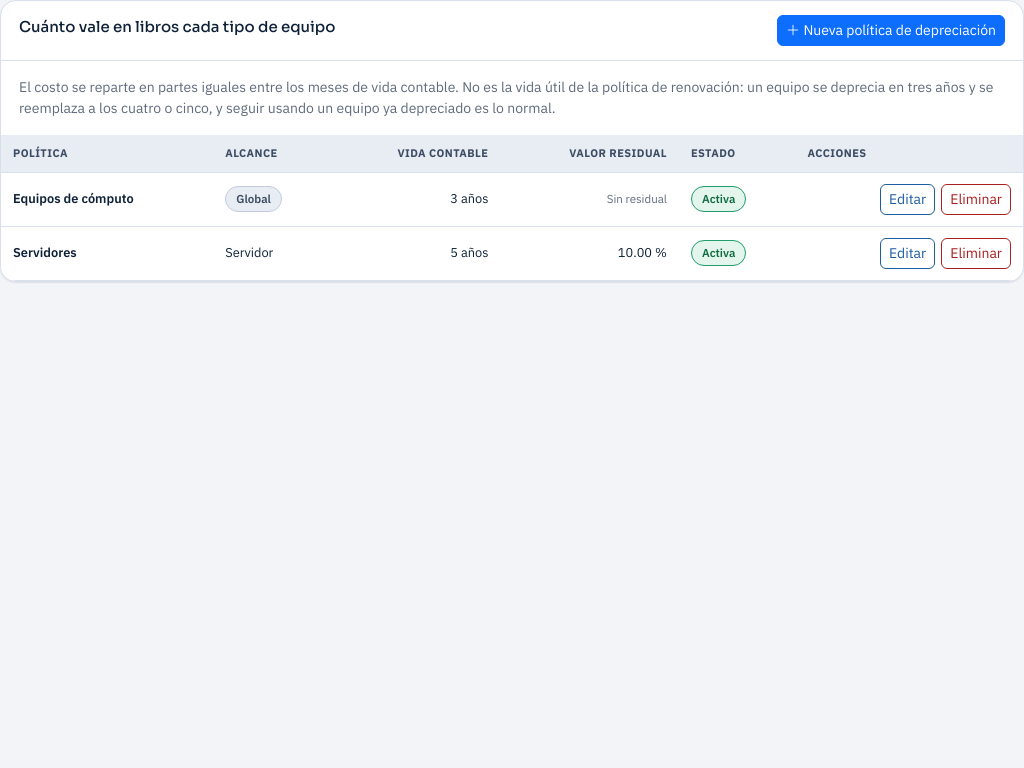
Test: Al definir una política de depreciación › propone 36 meses, que es lo del equipo de cómputo
Click the button "Nueva política de depreciación" at (891, 30), box [777,15,1005,46]
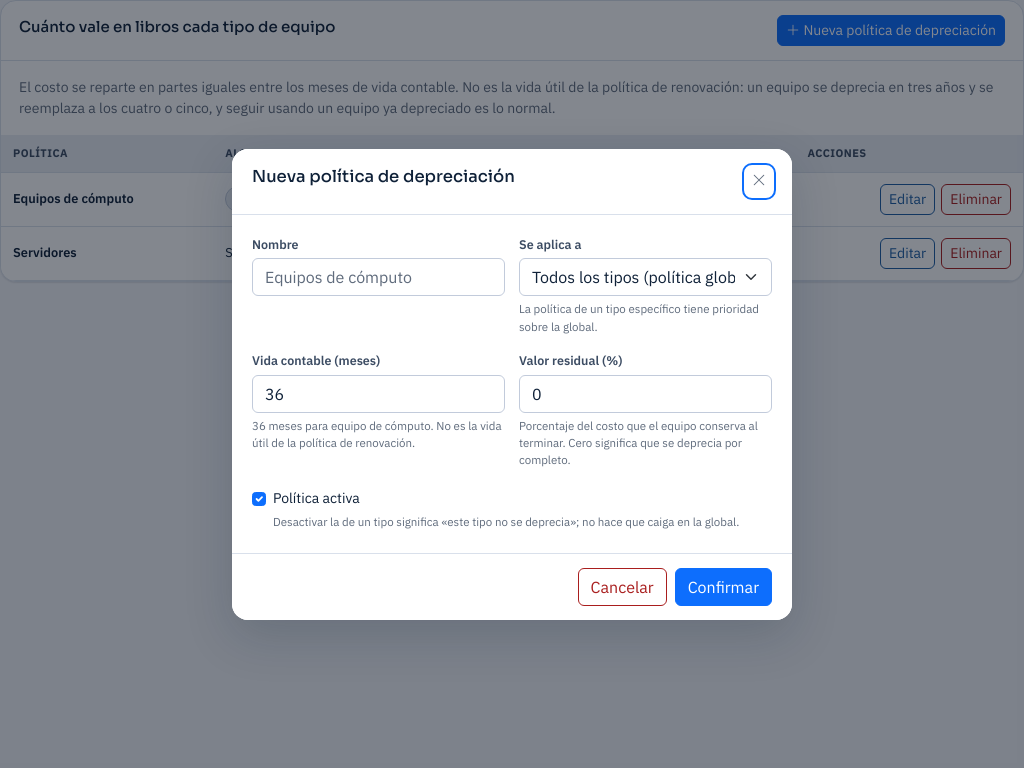
Check: the number field labelled "Vida contable (meses)" holds "36", box [252,374,505,412]
